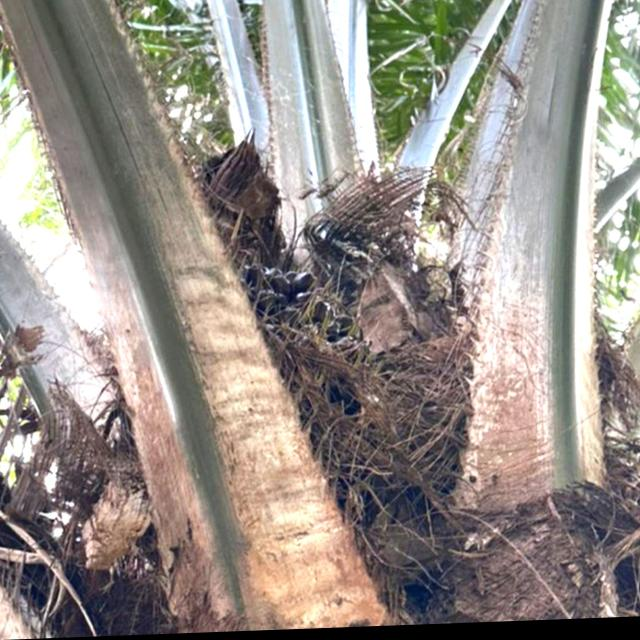unripe: (204, 245, 402, 559)
